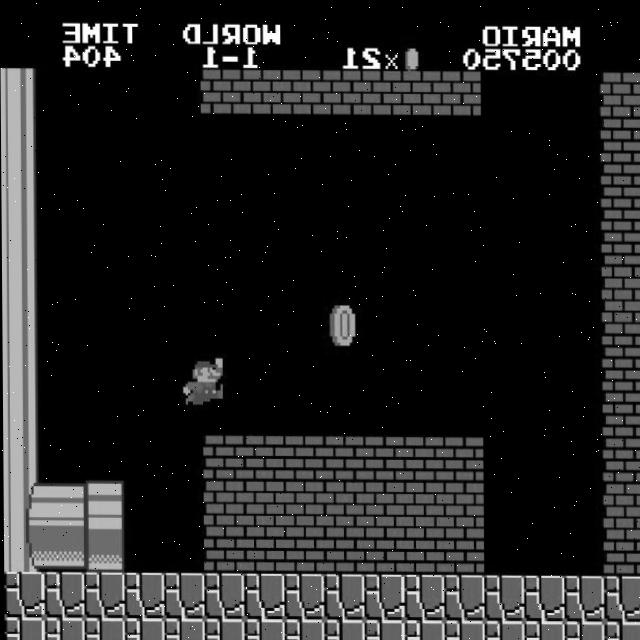1- brick_block: (402, 482, 444, 529), (242, 481, 284, 528), (442, 483, 484, 529), (362, 482, 404, 528), (322, 482, 364, 528), (282, 482, 324, 528), (202, 481, 244, 527), (320, 70, 361, 117), (323, 527, 364, 574), (440, 71, 481, 117), (443, 528, 484, 574), (400, 71, 441, 117), (403, 528, 444, 574), (360, 71, 401, 117), (363, 528, 404, 574), (322, 436, 363, 482), (280, 70, 321, 116), (283, 527, 324, 573), (240, 70, 281, 116), (243, 527, 284, 573), (200, 70, 241, 116), (203, 527, 244, 573), (600, 71, 640, 118), (442, 437, 483, 482), (402, 437, 443, 482), (362, 437, 403, 482), (282, 436, 323, 481), (242, 436, 283, 481), (202, 436, 243, 481), (601, 208, 640, 255), (601, 254, 640, 301), (601, 117, 640, 163), (601, 163, 640, 209), (602, 345, 640, 392), (602, 391, 640, 438), (602, 300, 640, 346), (603, 528, 640, 575), (603, 437, 640, 483), (603, 483, 640, 529)
11- little_mario: (182, 356, 225, 404)
14- pipe: (42, 480, 84, 526), (0, 68, 42, 114), (1, 251, 43, 297), (2, 388, 44, 434), (43, 526, 84, 572), (1, 205, 42, 251), (2, 342, 43, 388), (3, 525, 44, 571), (1, 114, 42, 159), (1, 160, 42, 205), (2, 297, 43, 342), (3, 434, 44, 479), (3, 480, 44, 525)
15- pipe_head: (82, 480, 124, 527), (83, 526, 124, 572)
17- undestructible_block: (3, 571, 45, 617), (483, 574, 524, 621), (323, 573, 364, 620), (163, 572, 204, 619), (563, 575, 604, 621), (523, 575, 564, 621), (443, 574, 484, 620), (403, 574, 444, 620), (363, 574, 404, 620), (283, 573, 324, 619), (243, 573, 284, 619), (203, 573, 244, 619), (123, 572, 164, 618), (83, 572, 124, 618), (43, 572, 84, 618), (603, 574, 640, 621), (83, 617, 124, 640), (43, 617, 84, 640), (243, 618, 284, 640), (203, 618, 244, 640), (163, 618, 204, 640), (123, 618, 164, 640), (4, 617, 45, 639), (403, 619, 444, 640), (363, 619, 404, 640), (323, 619, 364, 640), (283, 619, 324, 640), (563, 620, 604, 640), (523, 620, 564, 640), (483, 620, 524, 640), (443, 620, 484, 640), (604, 620, 640, 640)
2- coin: (321, 299, 362, 345)
